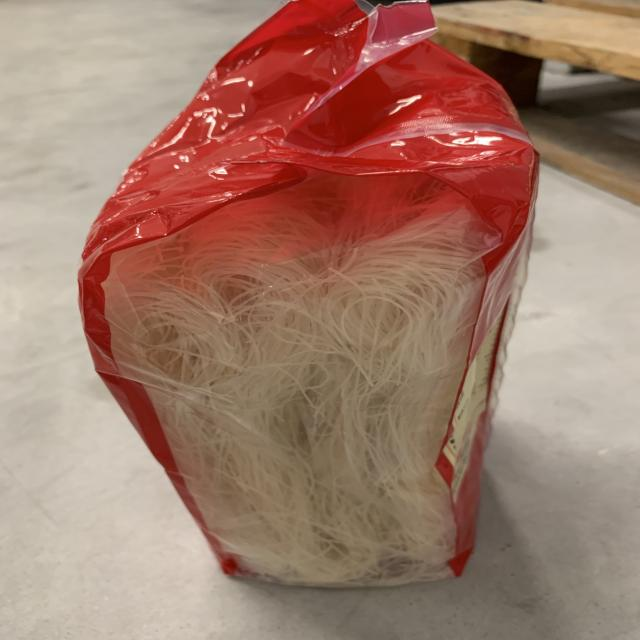object_name: (91, 57, 495, 597)
